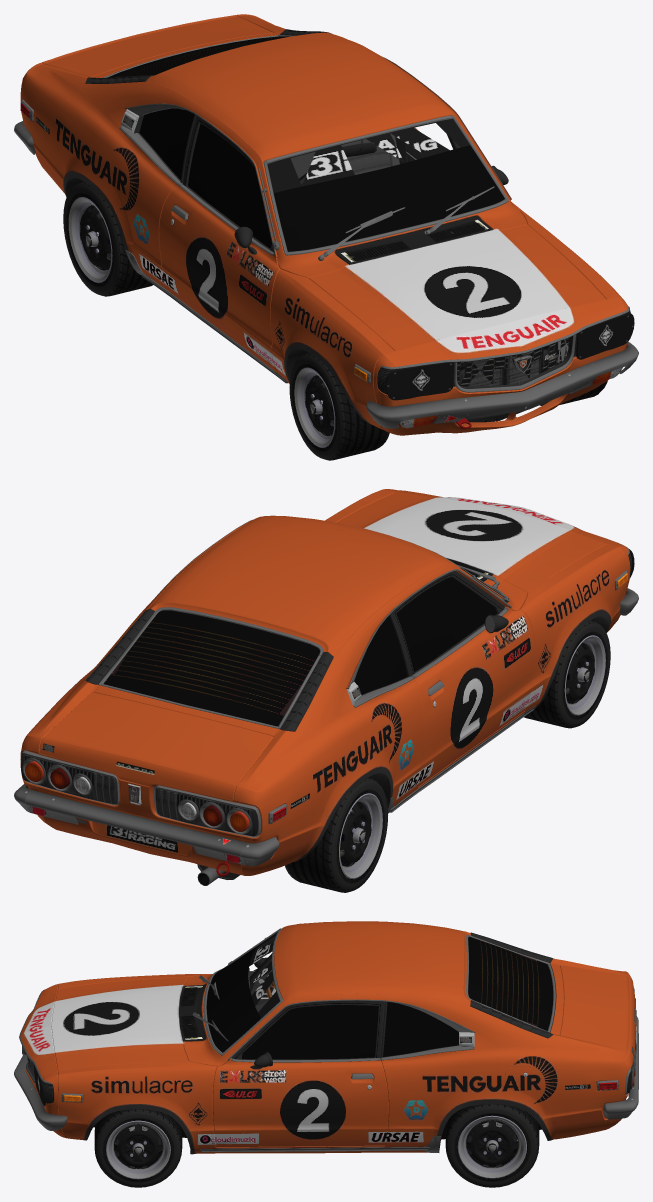
The model's file is 1972 Mazda RX-3.glb.
3 views of the same model, one above another, from view 1: azimuth 30°, elevation 25°; view 2: azimuth 150°, elevation 25°; view 3: azimuth 270°, elevation 25° (orthographic). The views are drawn at different scales.
Visible parts, largest first — view 1: LOD_A_BODY_mm_ext, LOD_A_HOOD_mm_ext, LOD_A_GLASS_FRONT_mm_windows, LOD_A_DOOR_RIGHT_mm_ext, LOD_A_BODY_mm_lights, LOD_A_DOOR_RIGHT_REAR_mm_ext, LOD_A_BRAKE_CALIPER_FRONT_LEFT_mm_misc.002, LOD_A_BRAKE_CALIPER_FRONT_LEFT_mm_misc.003, LOD_A_FRONTBUMPER_mm_lights, LOD_A_GLASS_RIGHT_mm_windows, LOD_A_BOOT_mm_ext, LOD_A_BODY_mm_badges (+6 smaller); view 2: LOD_A_BODY_mm_ext, LOD_A_GLASS_REAR_mm_windows, LOD_A_BOOT_mm_ext, LOD_A_HOOD_mm_ext, LOD_A_DOOR_RIGHT_mm_ext, LOD_A_BODY_mm_lights, LOD_A_BRAKE_CALIPER_FRONT_LEFT_mm_misc.003, LOD_A_BODY_mm_misc, LOD_A_REARBUMPER_mm_lights, LOD_A_GLASS_RIGHT_mm_windows, LOD_A_BRAKE_CALIPER_FRONT_LEFT_mm_misc.002, LOD_A_GLASS_RIGHT_QUARTER_mm_windows (+3 smaller); view 3: LOD_A_BODY_mm_ext, LOD_A_DOOR_LEFT_mm_ext, LOD_A_HOOD_mm_ext, LOD_A_BRAKE_CALIPER_FRONT_LEFT_mm_misc, LOD_A_GLASS_LEFT_mm_windows, LOD_A_BRAKE_CALIPER_FRONT_LEFT_mm_misc.001, LOD_A_GLASS_REAR_mm_windows, LOD_A_BOOT_mm_ext, LOD_A_BODY_mm_lights, LOD_A_GLASS_FRONT_mm_windows, LOD_A_GLASS_LEFT_QUARTER_mm_windows, LOD_A_BODY_mm_misc (+6 smaller).
Part boxes in pixels (<box>): LOD_A_BODY_mm_ext: <box>20,14,628,435</box>; LOD_A_HOOD_mm_ext: <box>308,224,606,351</box>; LOD_A_GLASS_FRONT_mm_windows: <box>274,145,504,251</box>; LOD_A_DOOR_RIGHT_mm_ext: <box>159,186,280,370</box>; LOD_A_BODY_mm_lights: <box>20,34,629,428</box>; LOD_A_DOOR_RIGHT_REAR_mm_ext: <box>267,119,634,400</box>; LOD_A_BRAKE_CALIPER_FRONT_LEFT_mm_misc.002: <box>289,352,389,460</box>; LOD_A_BRAKE_CALIPER_FRONT_LEFT_mm_misc.003: <box>63,180,153,296</box>; LOD_A_FRONTBUMPER_mm_lights: <box>366,341,638,428</box>; LOD_A_GLASS_RIGHT_mm_windows: <box>188,123,271,248</box>; LOD_A_BOOT_mm_ext: <box>42,15,272,76</box>; LOD_A_BODY_mm_badges: <box>30,114,633,424</box>; LOD_A_BODY_mm_ext: <box>20,489,630,875</box>; LOD_A_GLASS_REAR_mm_windows: <box>104,610,319,726</box>; LOD_A_BOOT_mm_ext: <box>39,692,273,800</box>; LOD_A_HOOD_mm_ext: <box>336,492,606,592</box>; LOD_A_DOOR_RIGHT_mm_ext: <box>414,606,535,786</box>; LOD_A_BODY_mm_lights: <box>20,519,629,837</box>; LOD_A_BRAKE_CALIPER_FRONT_LEFT_mm_misc.003: <box>285,777,387,892</box>; LOD_A_BODY_mm_misc: <box>21,552,632,876</box>; LOD_A_REARBUMPER_mm_lights: <box>14,784,279,866</box>; LOD_A_GLASS_RIGHT_mm_windows: <box>396,577,496,672</box>; LOD_A_BRAKE_CALIPER_FRONT_LEFT_mm_misc.002: <box>524,620,610,728</box>; LOD_A_GLASS_RIGHT_QUARTER_mm_windows: <box>354,616,407,694</box>; LOD_A_BODY_mm_ext: <box>20,921,635,1154</box>; LOD_A_DOOR_LEFT_mm_ext: <box>213,1058,388,1147</box>; LOD_A_HOOD_mm_ext: <box>51,977,188,1070</box>; LOD_A_BRAKE_CALIPER_FRONT_LEFT_mm_misc: <box>445,1104,539,1187</box>; LOD_A_GLASS_LEFT_mm_windows: <box>242,1005,378,1059</box>; LOD_A_BRAKE_CALIPER_FRONT_LEFT_mm_misc.001: <box>94,1109,182,1187</box>; LOD_A_GLASS_REAR_mm_windows: <box>468,937,553,1031</box>; LOD_A_BOOT_mm_ext: <box>560,965,636,1059</box>; LOD_A_BODY_mm_lights: <box>19,928,634,1152</box>; LOD_A_GLASS_FRONT_mm_windows: <box>206,944,261,1052</box>; LOD_A_GLASS_LEFT_QUARTER_mm_windows: <box>383,1002,458,1056</box>; LOD_A_BODY_mm_misc: <box>24,932,636,1103</box>.
Size of the model in its own units: 1.59 by 1.32 by 3.96.
Materials: 10 (10 with a texture image).
